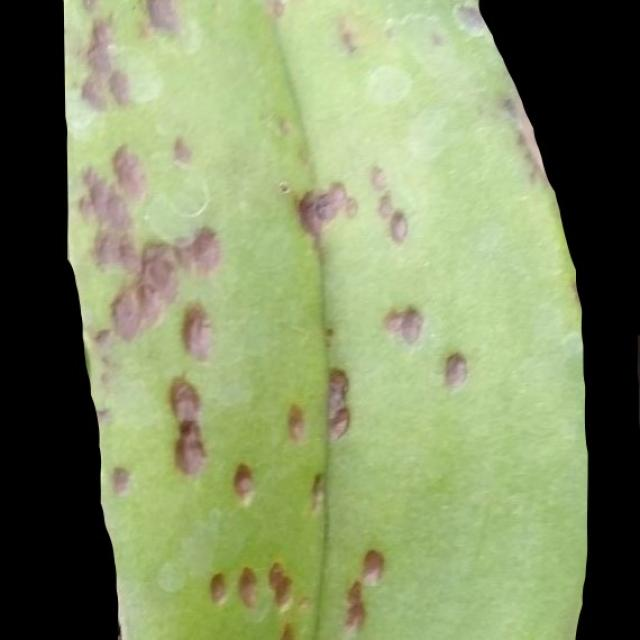mite: (200, 545, 390, 638), (204, 559, 295, 611), (364, 62, 413, 108), (326, 366, 353, 442), (265, 559, 293, 609), (230, 459, 255, 501), (236, 564, 258, 609), (359, 547, 385, 585), (283, 401, 307, 442), (205, 569, 228, 606), (386, 208, 409, 244)
spots: (63, 0, 589, 639)
